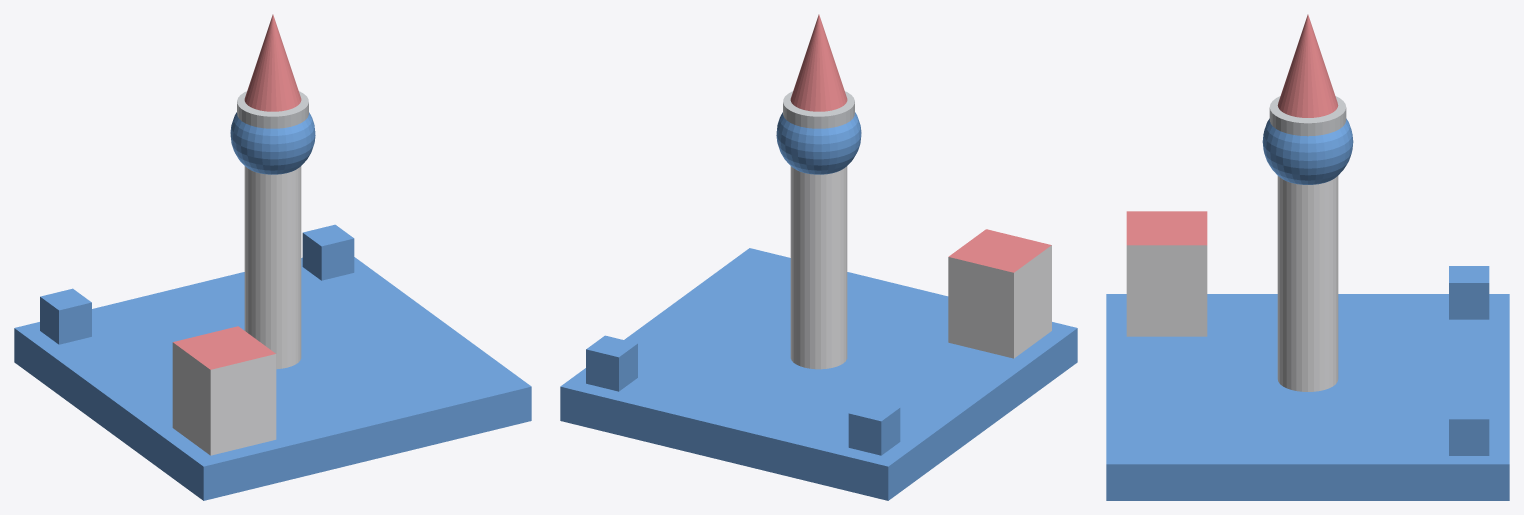
File: nf-test-rig.glb
The picture shows the model from 3 angles, left to right: view 1: azimuth 30°, elevation 25°; view 2: azimuth 150°, elevation 25°; view 3: azimuth 270°, elevation 25°; orthographic projection. The views are drawn at different scales.
Parts seen in each view (by area): view 1: Plate, Badge, Arm_Segment, Joint, Tool_Tip, Marker, Marker.001, Tool_Ring; view 2: Plate, Badge, Arm_Segment, Joint, Tool_Tip, Marker.001, Marker, Tool_Ring; view 3: Plate, Arm_Segment, Badge, Joint, Tool_Tip, Marker, Marker.001, Tool_Ring.
Boxes of the visible parts, bbox=[...] form: Plate: bbox=[14, 257, 531, 500]; Badge: bbox=[172, 326, 276, 455]; Arm_Segment: bbox=[244, 166, 301, 369]; Joint: bbox=[230, 112, 315, 174]; Tool_Tip: bbox=[244, 14, 301, 111]; Marker: bbox=[302, 224, 354, 280]; Marker.001: bbox=[40, 288, 91, 344]; Tool_Ring: bbox=[237, 91, 308, 128]; Plate: bbox=[560, 248, 1077, 500]; Badge: bbox=[948, 229, 1051, 358]; Arm_Segment: bbox=[790, 166, 847, 369]; Joint: bbox=[776, 112, 861, 174]; Tool_Tip: bbox=[790, 14, 847, 111]; Marker.001: bbox=[848, 399, 900, 455]; Marker: bbox=[586, 335, 637, 391]; Tool_Ring: bbox=[783, 91, 854, 128]; Plate: bbox=[1106, 294, 1509, 500]; Arm_Segment: bbox=[1277, 176, 1338, 391]; Badge: bbox=[1126, 211, 1207, 336]; Joint: bbox=[1262, 118, 1353, 184]; Tool_Tip: bbox=[1277, 14, 1338, 117]; Marker: bbox=[1449, 402, 1489, 455]; Marker.001: bbox=[1449, 266, 1489, 319]; Tool_Ring: bbox=[1269, 96, 1346, 136].
Bounding box in the file's own units: 2 × 2.2 × 2.
